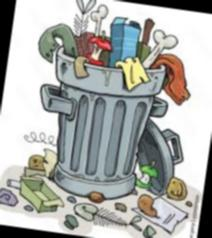trash: (29, 0, 206, 81), (46, 171, 165, 238), (123, 140, 203, 238), (0, 141, 67, 226)
trash_can_overflow: (0, 0, 212, 238)
